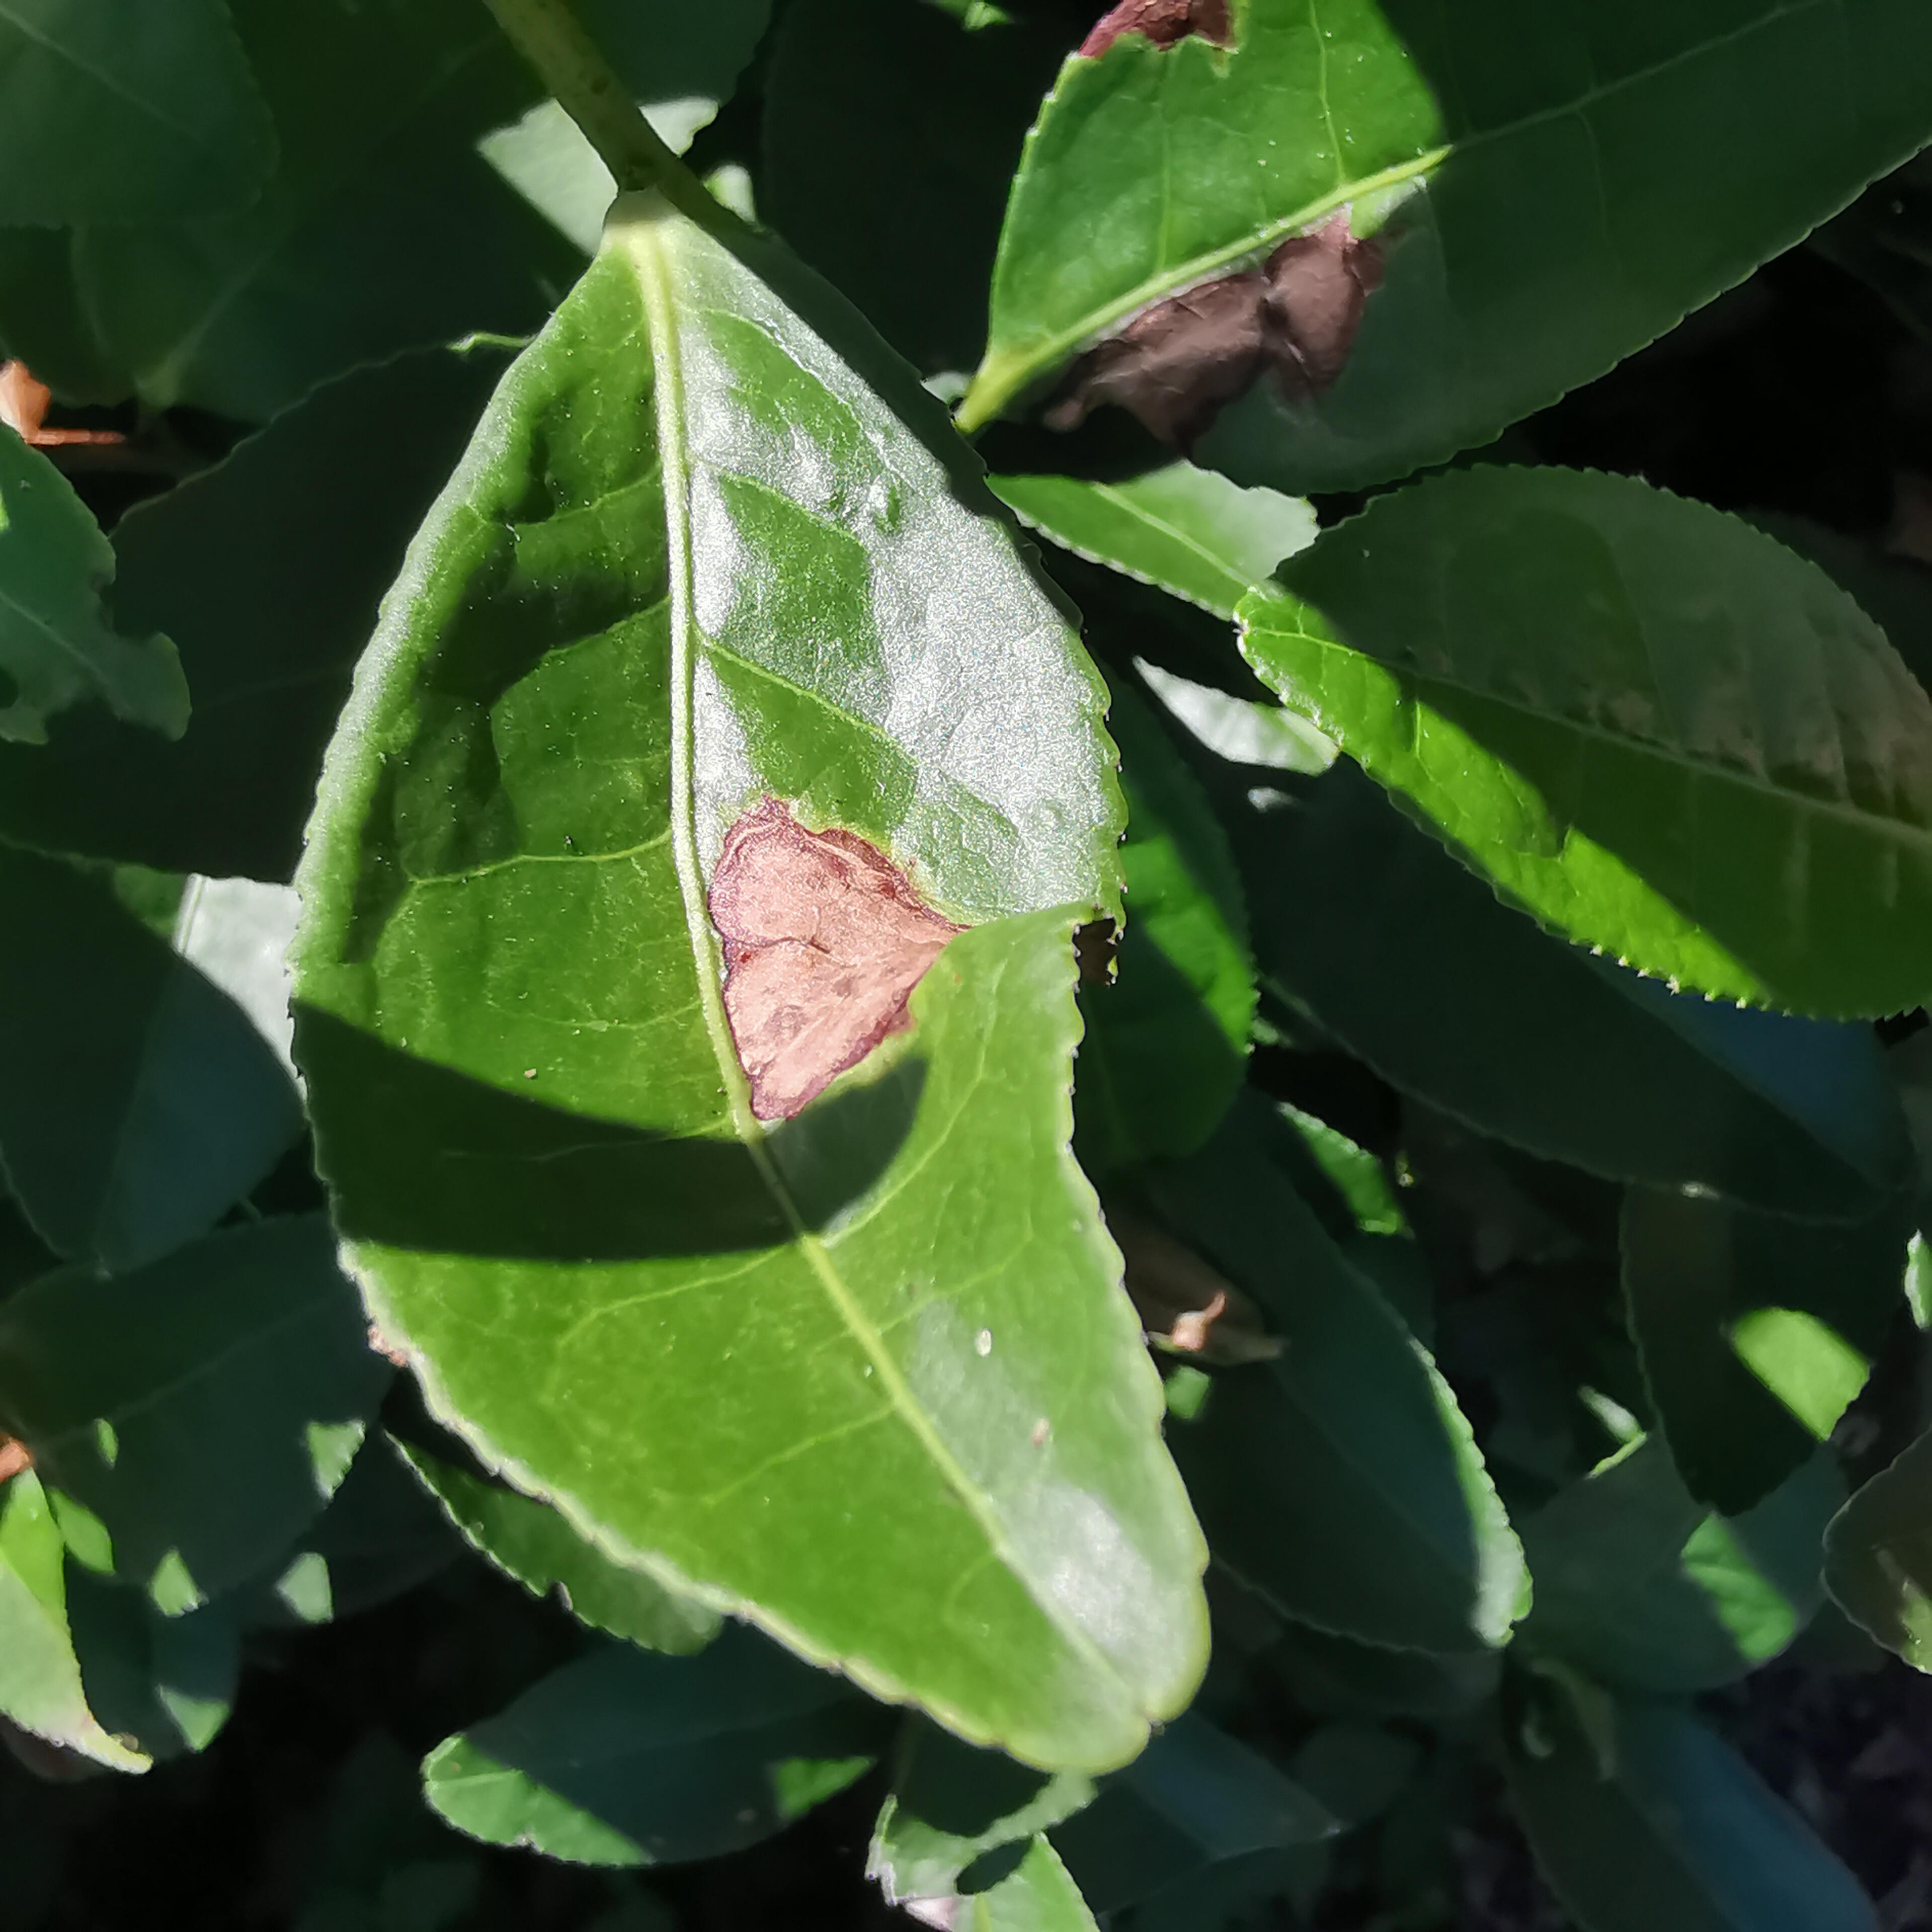healthy: (1237, 455, 1928, 1024)
tanju_high: (281, 189, 1217, 1783), (980, 2, 1923, 499)
